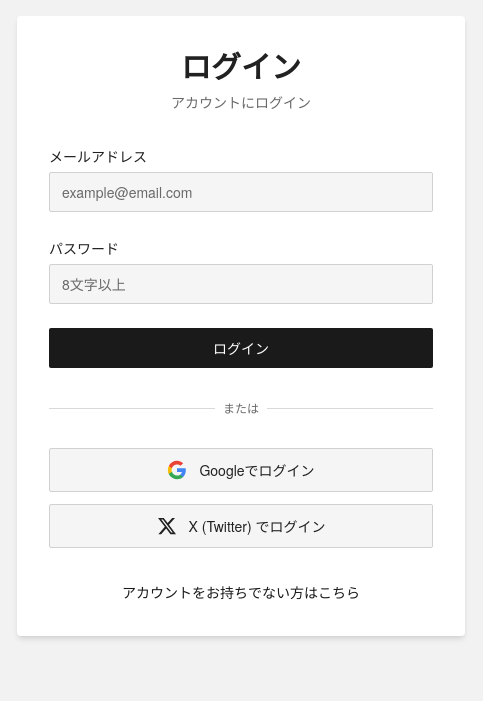
Scenario: LoginPage › displays error message when signIn returns error
Type "bad@test.com" into the field labelled "メールアドレス" at [241, 192], box [49, 172, 433, 212]
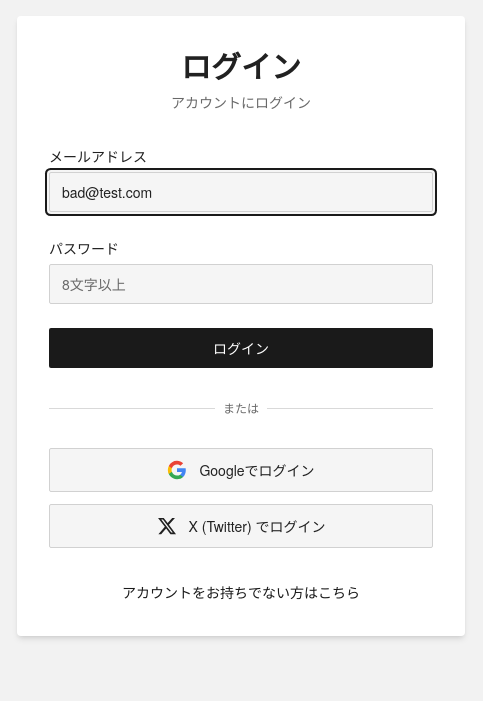
Type "wrongpass1" into the password field labelled "パスワード" at [241, 284], box [49, 264, 433, 304]
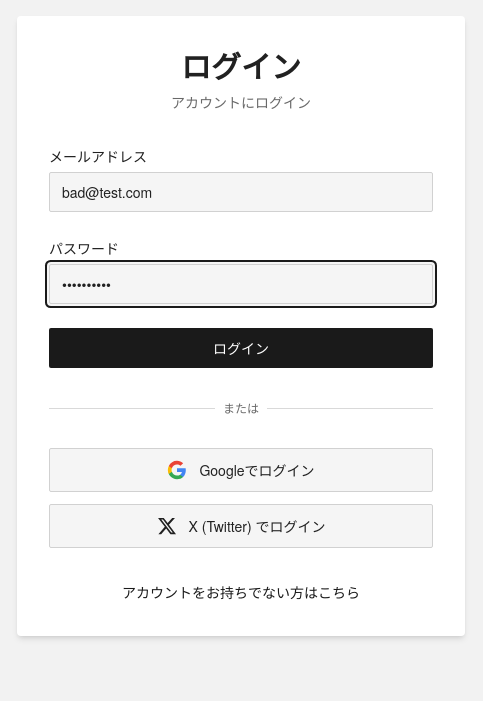
Click the button "ログイン" at [241, 348], box [49, 328, 433, 368]
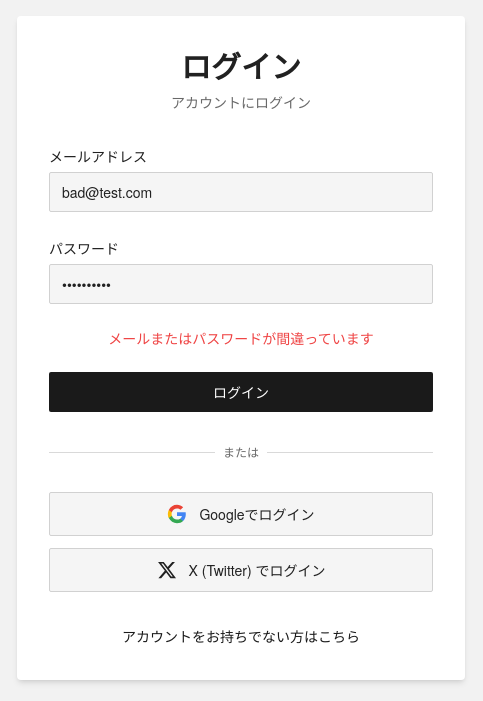
Check: the text "メールまたはパスワードが間違っています" is shown, box [108, 328, 374, 348]
